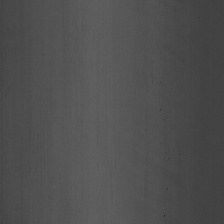inclusion: (158, 105, 162, 115), (162, 212, 167, 219), (167, 155, 172, 161), (166, 184, 168, 191)
